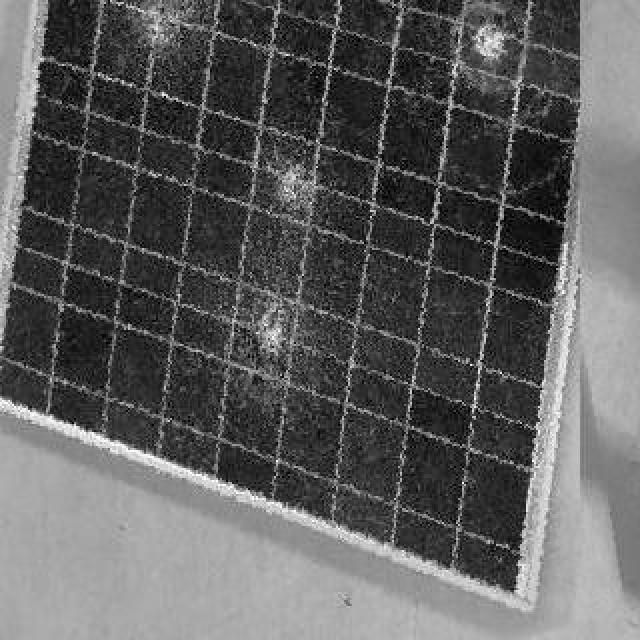Physical-damage: (238, 126, 374, 245), (104, 0, 222, 122), (418, 0, 558, 90), (222, 286, 320, 400)
